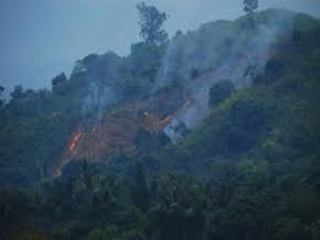fire: (63, 127, 87, 155)
smoke: (80, 32, 291, 141)
